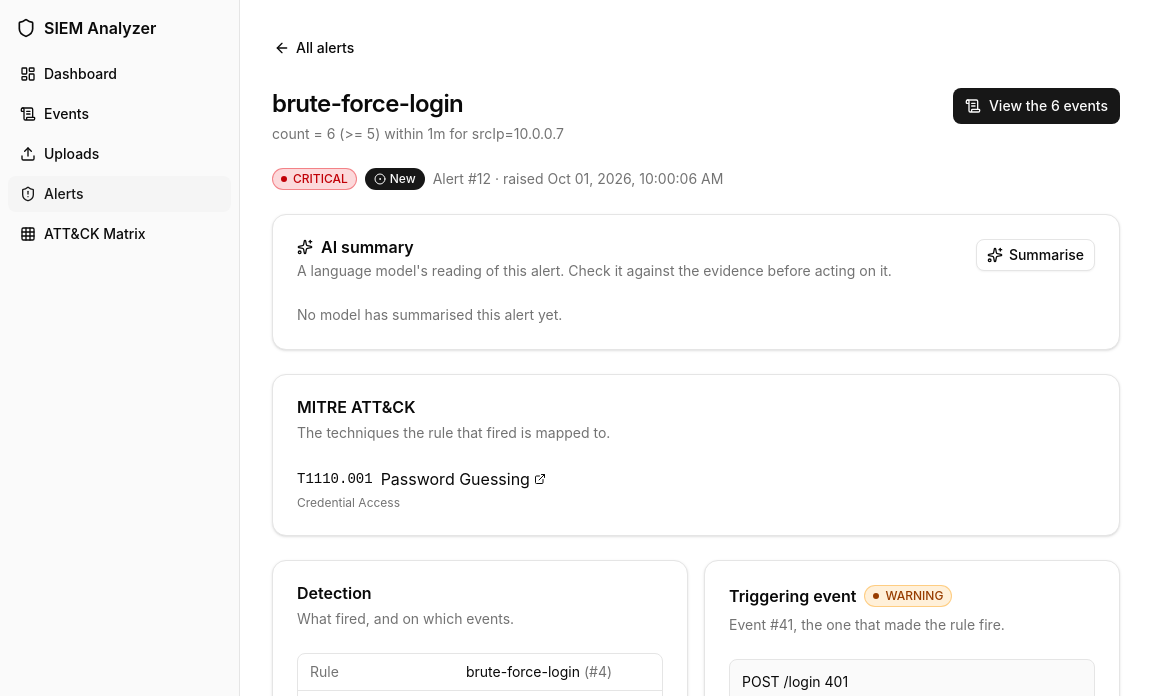
alert details › says when the AI provider failed
The image size is (1152, 696).
Click the button "Summarise" at (1035, 255), box [976, 239, 1095, 271]
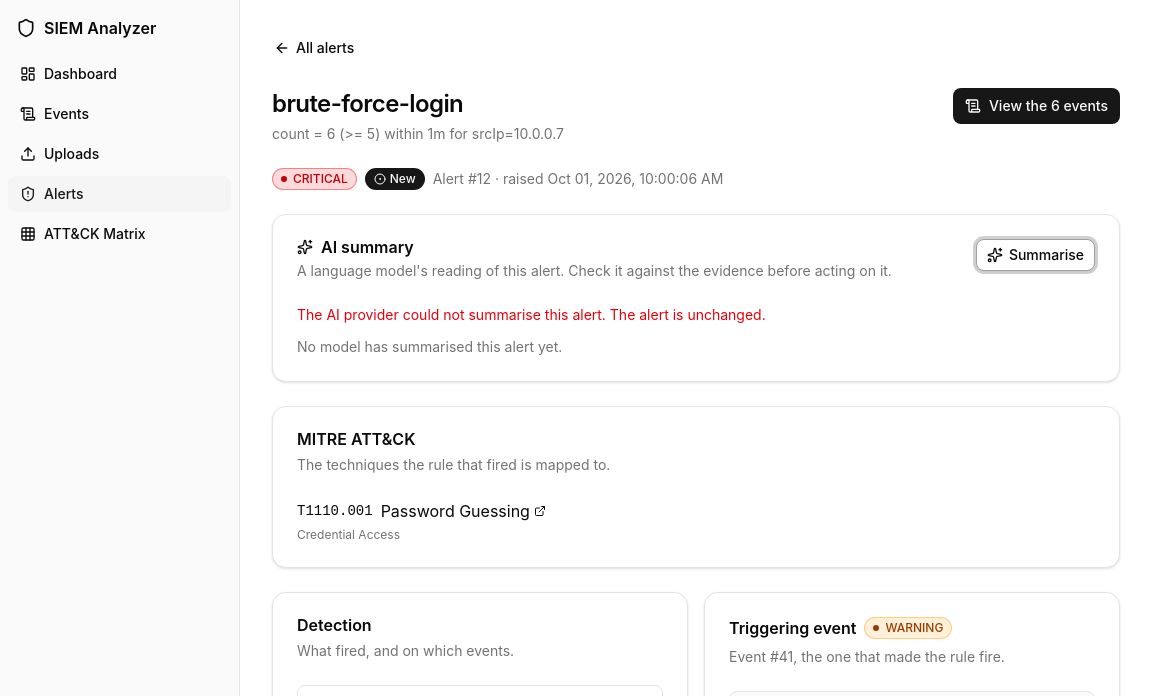
Expected: the message reads "The AI provider could not summarise this alert. The alert is unchanged.", [297, 306, 766, 323]
